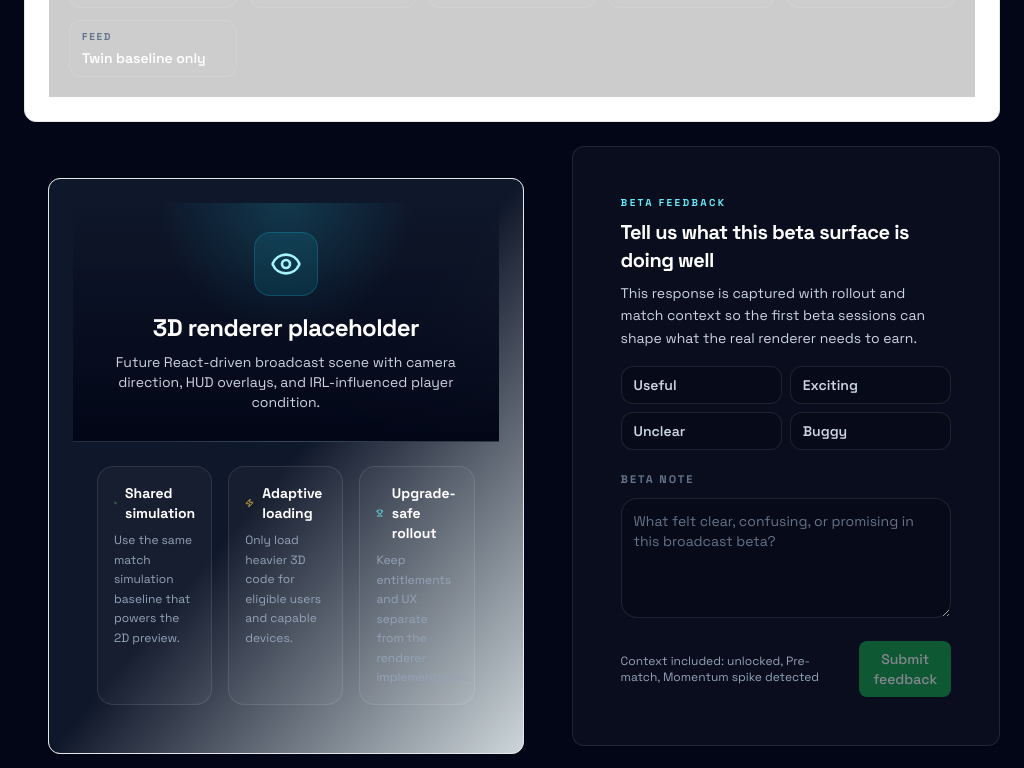
MatchBroadcast3DView › tracks state visibility and feedback submission with broadcast context
(page scrolled)
Click the button "Useful".
click(701, 385)  # box x1=621 y1=366 x2=782 y2=404
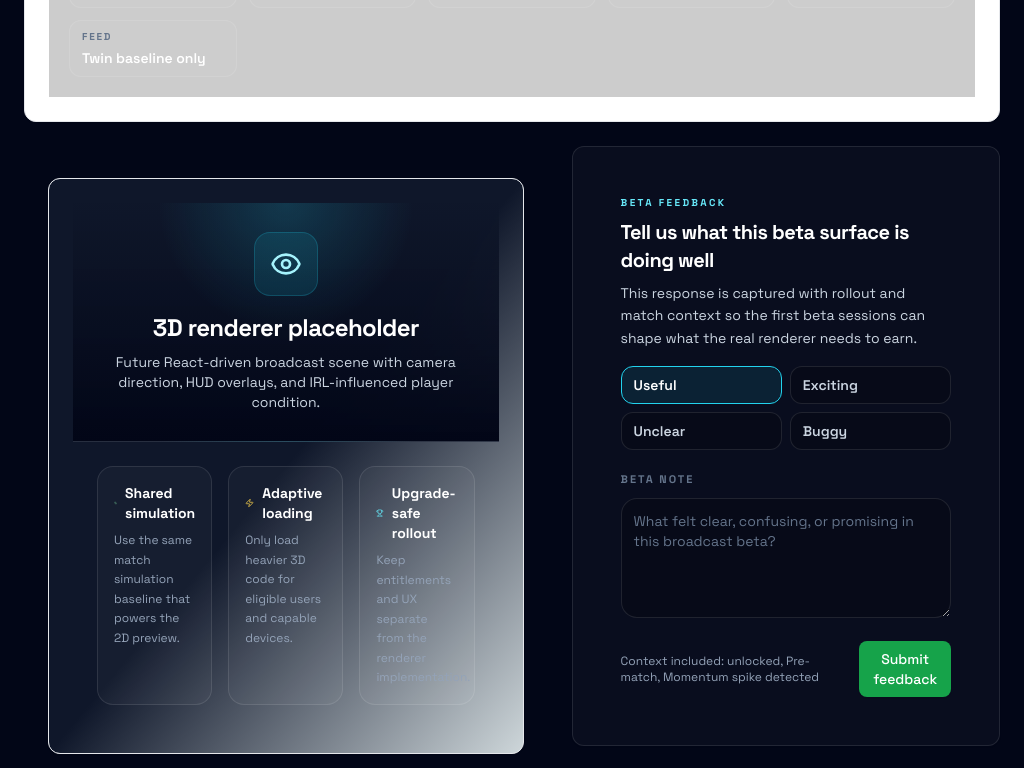
Replace the text in the text box with placeholder "What felt clear, confusing, or promising in this broadcast beta?" with "Highlight language makes sense." at (786, 558), box x1=621 y1=498 x2=951 y2=618
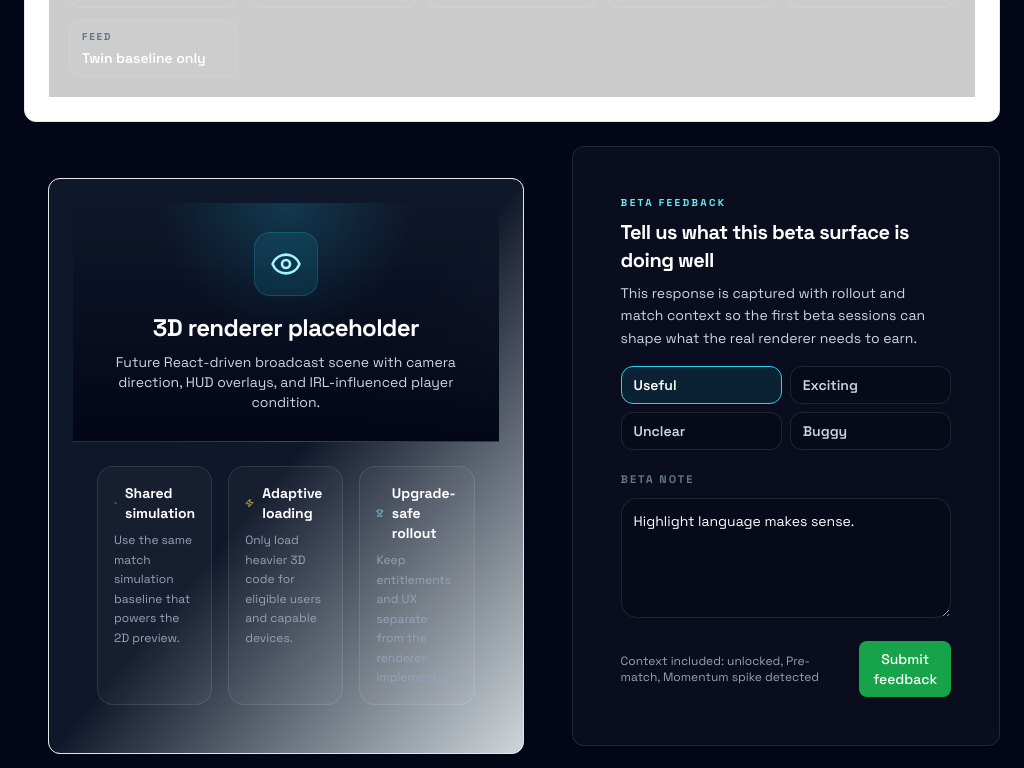
Click the button "Submit feedback".
click(905, 669)  # box x1=859 y1=641 x2=951 y2=697
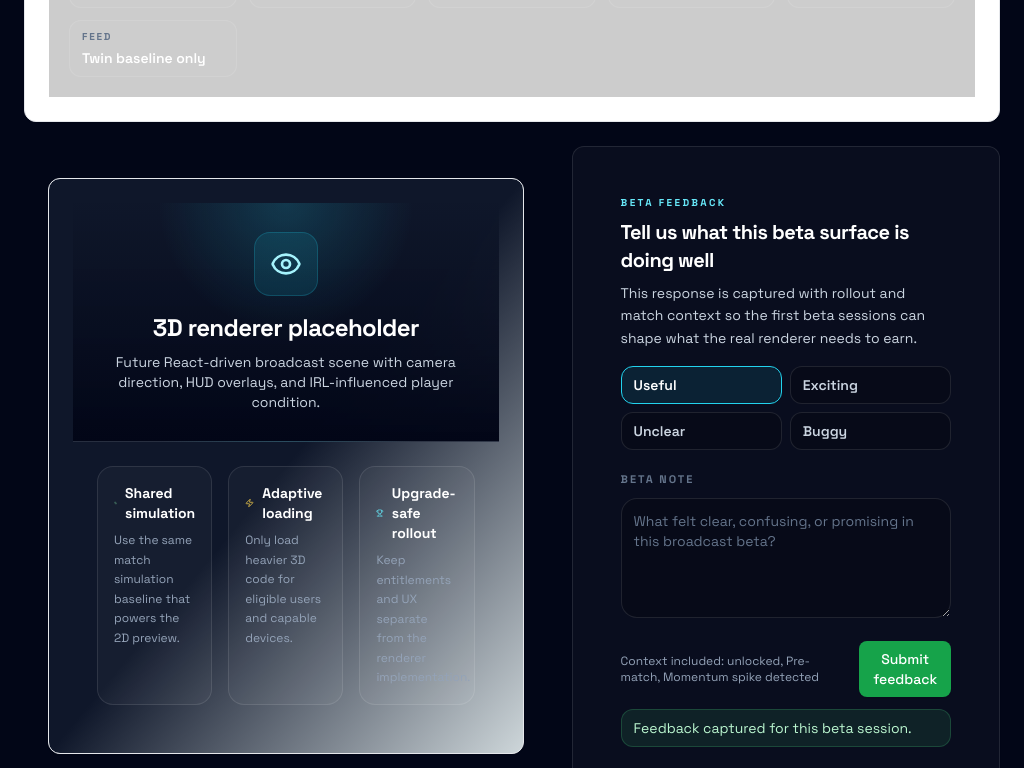
Now the text "Feedback captured for this beta session." is shown, box x1=621 y1=709 x2=951 y2=747
